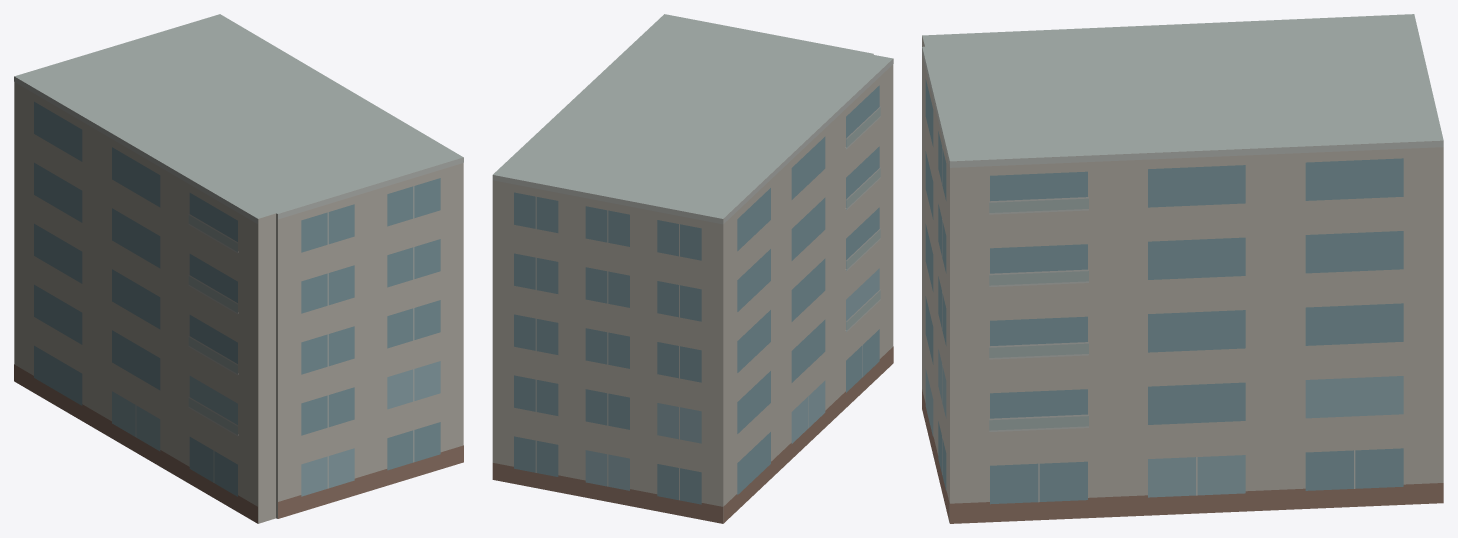
File: survey-upis-32653073.glb
The picture shows the model from 3 angles, left to right: view 1: azimuth 30°, elevation 25°; view 2: azimuth 150°, elevation 25°; view 3: azimuth 270°, elevation 25°; orthographic projection. The views are drawn at different scales.
Parts seen in each view (by area): view 1: survey-upis-32653073.tmp; view 2: survey-upis-32653073.tmp; view 3: survey-upis-32653073.tmp.
Boxes of the visible parts, x1=… form: survey-upis-32653073.tmp: x1=14, y1=14, x2=463, y2=523; survey-upis-32653073.tmp: x1=492, y1=14, x2=893, y2=523; survey-upis-32653073.tmp: x1=922, y1=14, x2=1443, y2=523.
Bounding box in the file's own units: 11.87 × 13.6 × 17.75.
